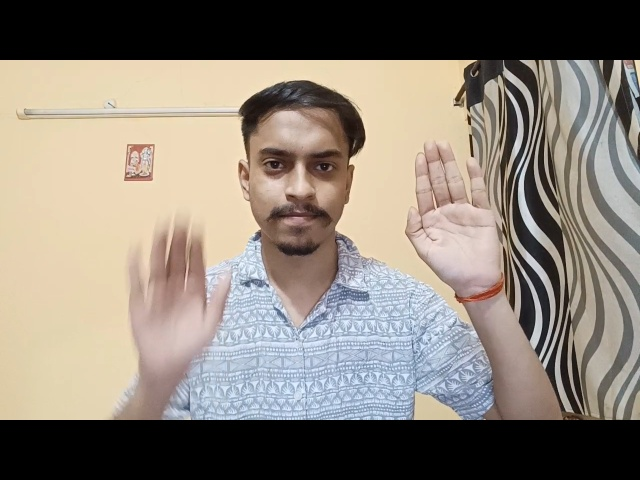Hello: (95, 208, 241, 392), (395, 127, 503, 297)
